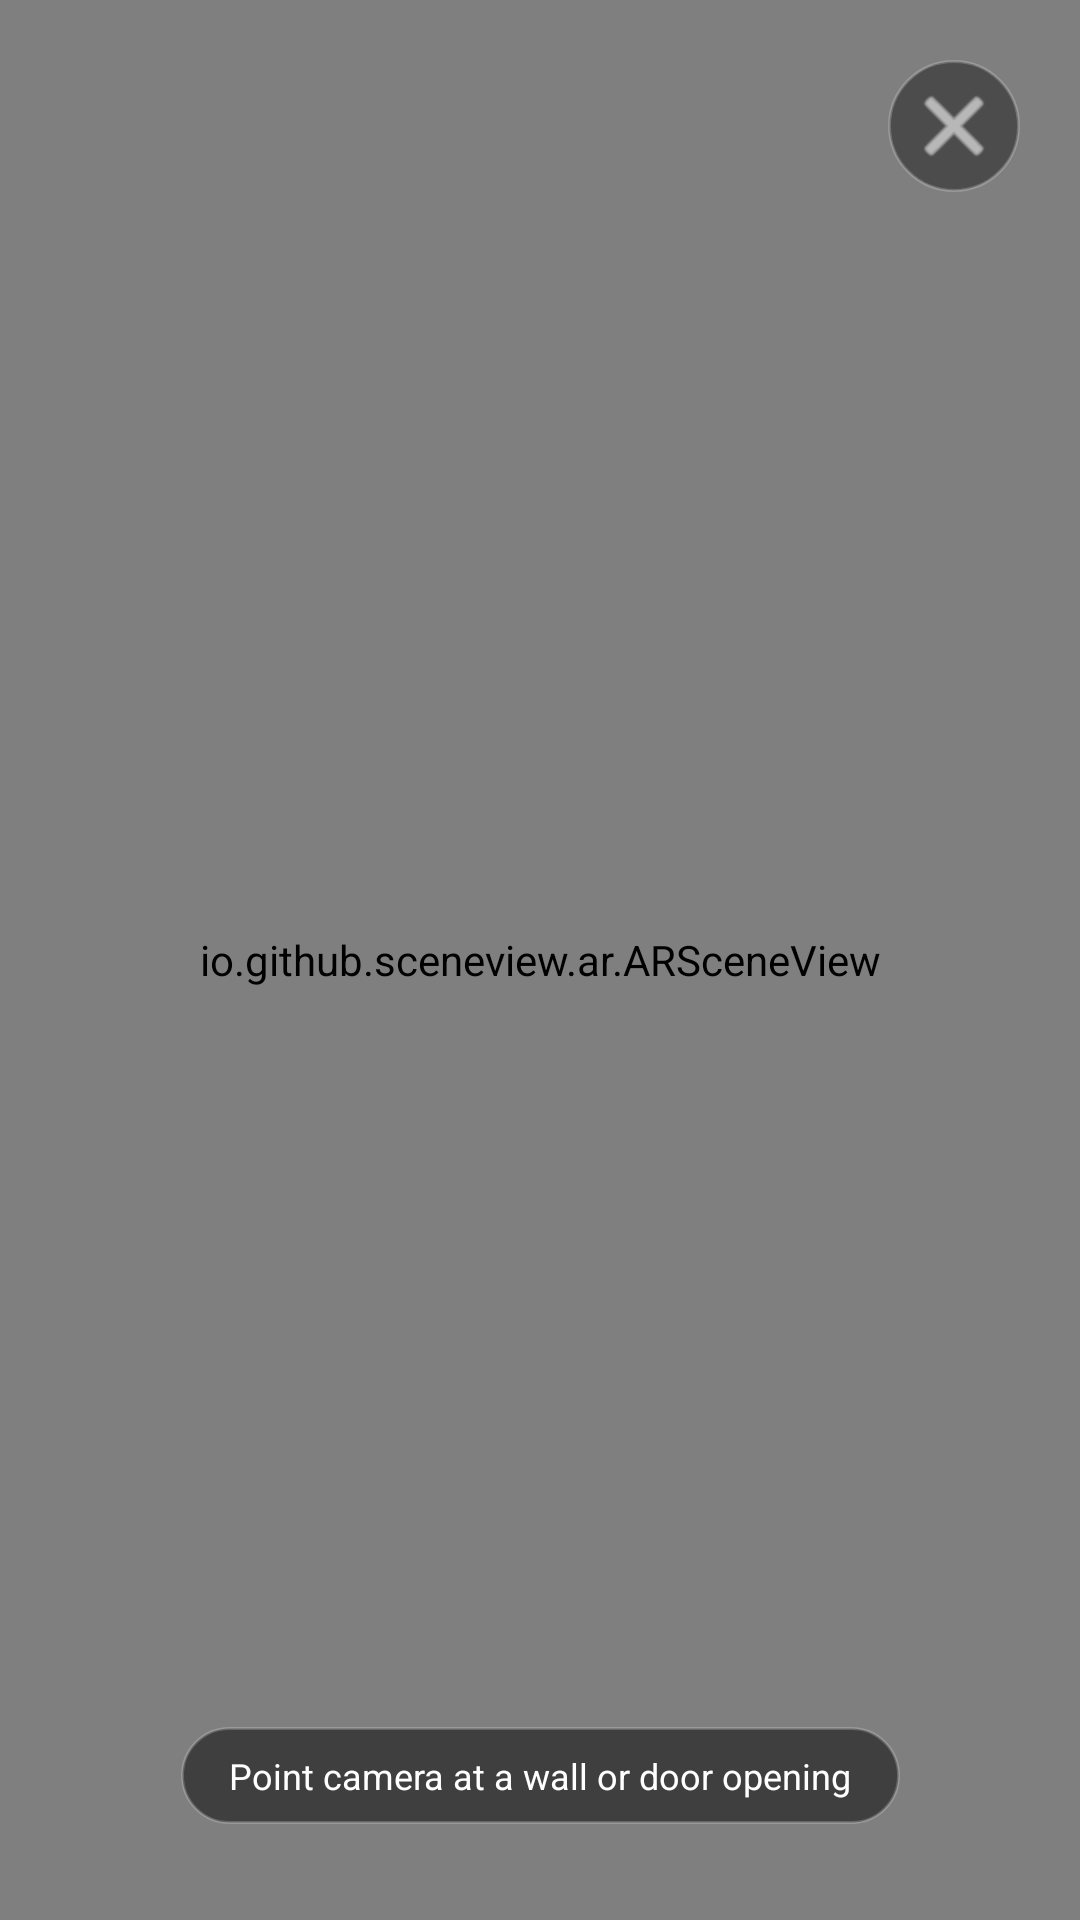

Screen size 1080px x 1920px. Icon name, then its box in pixels as box(x1, y1, x2, y2):
Exit AR: box(888, 60, 1020, 192)
